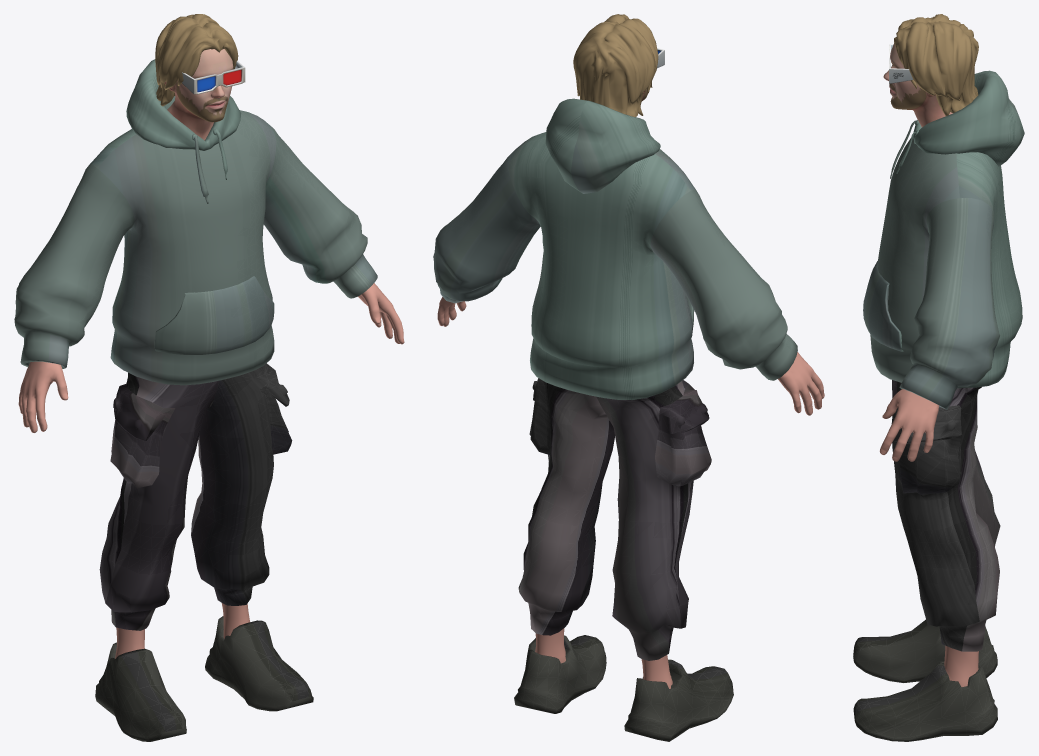
The model's file is developer_2.fbx.
The picture shows the model from 3 angles, left to right: view 1: azimuth 30°, elevation 25°; view 2: azimuth 150°, elevation 25°; view 3: azimuth 270°, elevation 25°; orthographic projection.
Visible parts, largest first — view 1: Wolf3D_Outfit_Top, Wolf3D_Outfit_Bottom, Wolf3D_Outfit_Footwear, Wolf3D_Body, Wolf3D_Hair, Wolf3D_Head, Wolf3D_Glasses; view 2: Wolf3D_Outfit_Top, Wolf3D_Outfit_Bottom, Wolf3D_Outfit_Footwear, Wolf3D_Hair, Wolf3D_Body; view 3: Wolf3D_Outfit_Top, Wolf3D_Outfit_Bottom, Wolf3D_Outfit_Footwear, Wolf3D_Hair, Wolf3D_Body, Wolf3D_Head, Wolf3D_Glasses.
Part boxes in pixels (x1=…): Wolf3D_Outfit_Top: x1=14, y1=59, x2=377, y2=385; Wolf3D_Outfit_Bottom: x1=99, y1=363, x2=292, y2=630; Wolf3D_Outfit_Footwear: x1=95, y1=616, x2=313, y2=741; Wolf3D_Body: x1=18, y1=283, x2=404, y2=658; Wolf3D_Hair: x1=155, y1=14, x2=238, y2=106; Wolf3D_Head: x1=164, y1=49, x2=233, y2=140; Wolf3D_Glasses: x1=182, y1=60, x2=245, y2=94; Wolf3D_Outfit_Top: x1=433, y1=98, x2=797, y2=399; Wolf3D_Outfit_Bottom: x1=518, y1=378, x2=711, y2=660; Wolf3D_Outfit_Footwear: x1=514, y1=635, x2=733, y2=741; Wolf3D_Hair: x1=573, y1=14, x2=658, y2=117; Wolf3D_Body: x1=437, y1=297, x2=824, y2=688; Wolf3D_Outfit_Top: x1=863, y1=70, x2=1024, y2=409; Wolf3D_Outfit_Bottom: x1=891, y1=380, x2=1000, y2=651; Wolf3D_Outfit_Footwear: x1=853, y1=619, x2=997, y2=741; Wolf3D_Hair: x1=894, y1=14, x2=978, y2=115; Wolf3D_Body: x1=879, y1=389, x2=978, y2=686; Wolf3D_Head: x1=883, y1=43, x2=952, y2=127; Wolf3D_Glasses: x1=889, y1=44, x2=913, y2=83.
Size of the model in its own units: 1.06 by 1.86 by 0.424.
Materials: 9 (9 with a texture image).
